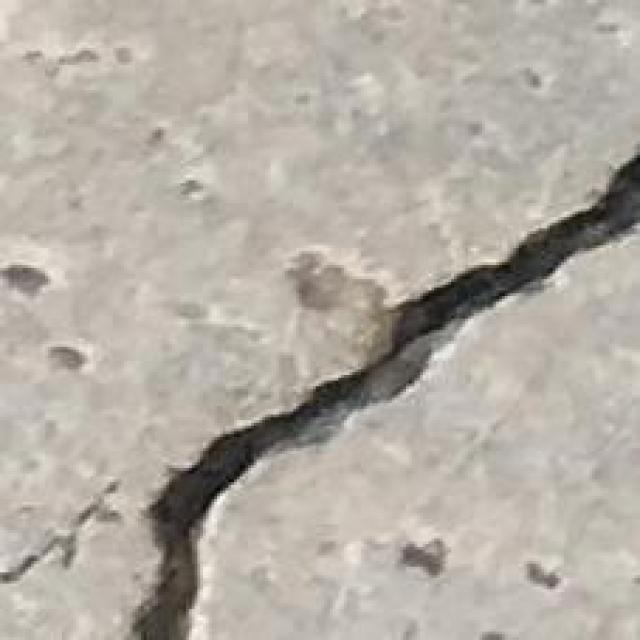diagonal crack: (132, 153, 639, 639)
